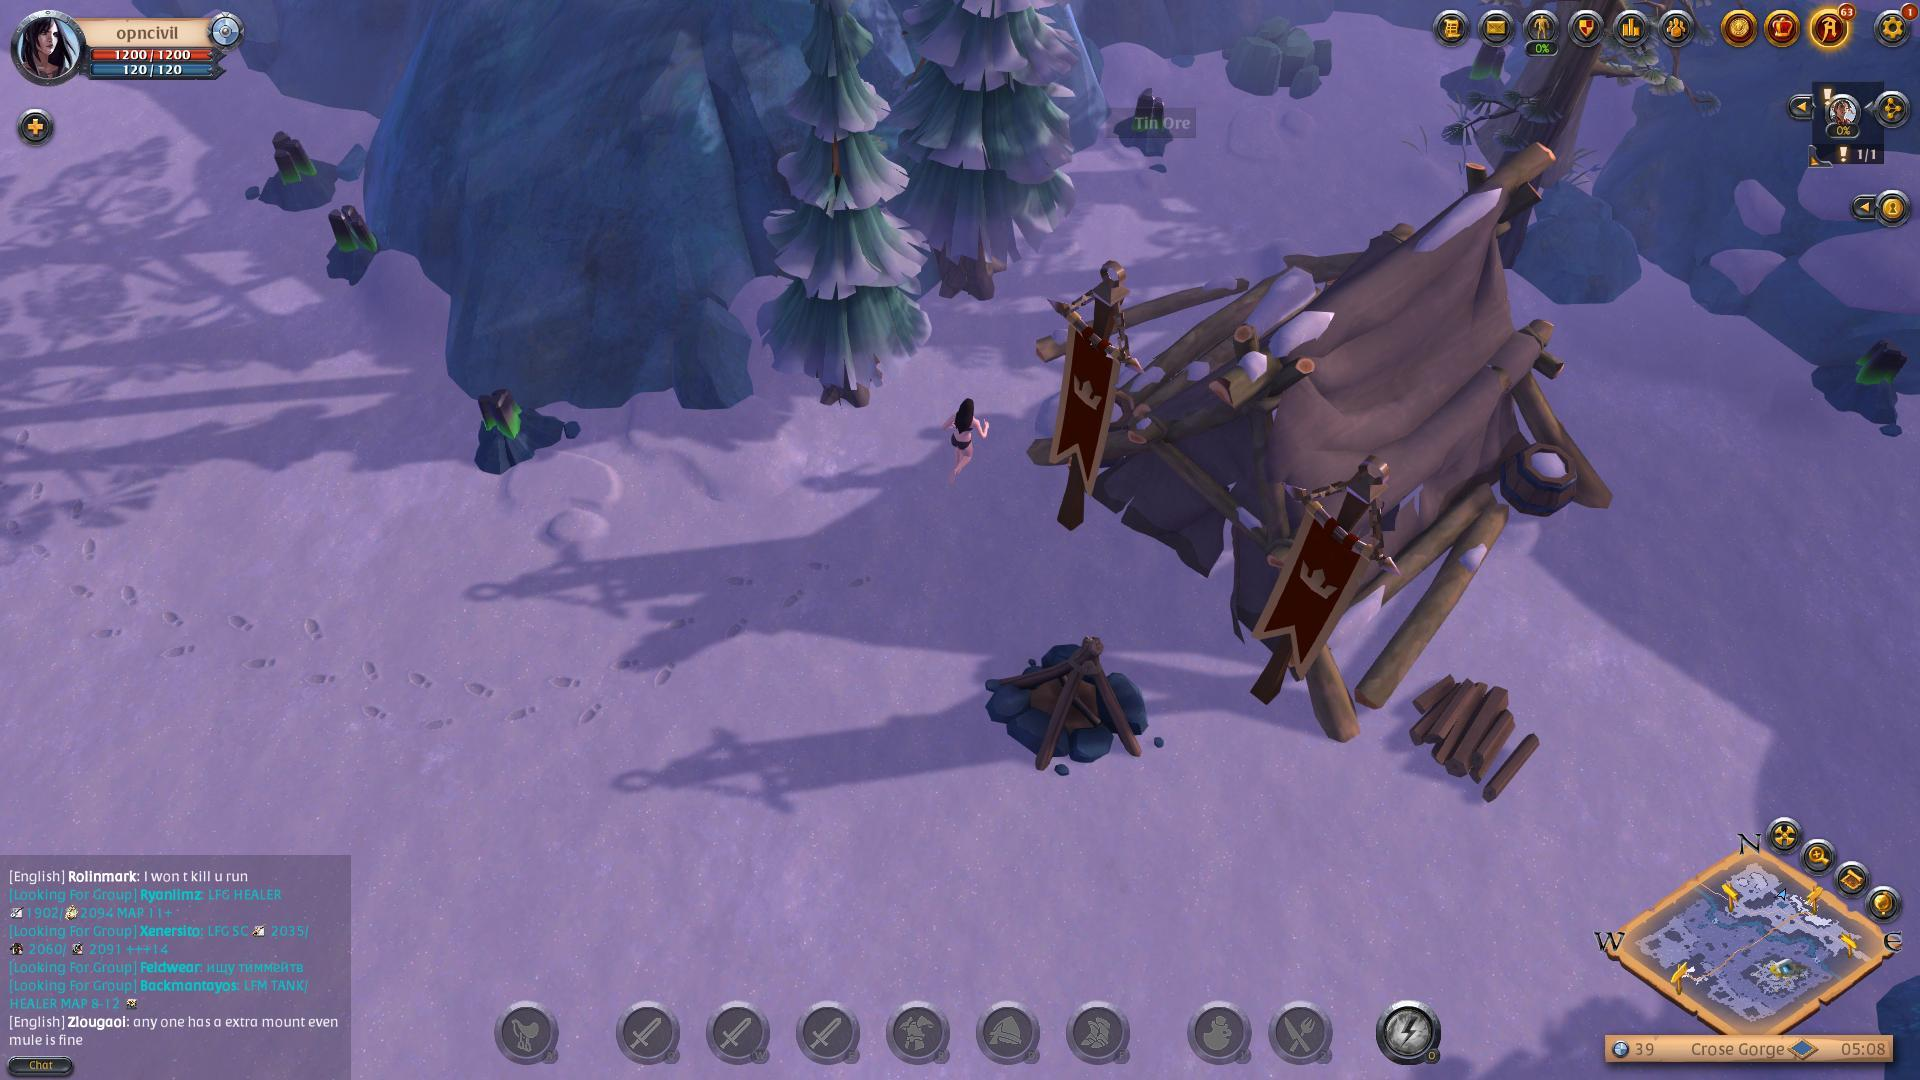sandstone: (1212, 5, 1346, 107)
tin_ore: (451, 376, 585, 479), (1803, 338, 1920, 417), (241, 127, 343, 211), (313, 199, 393, 298), (1437, 40, 1527, 107)
